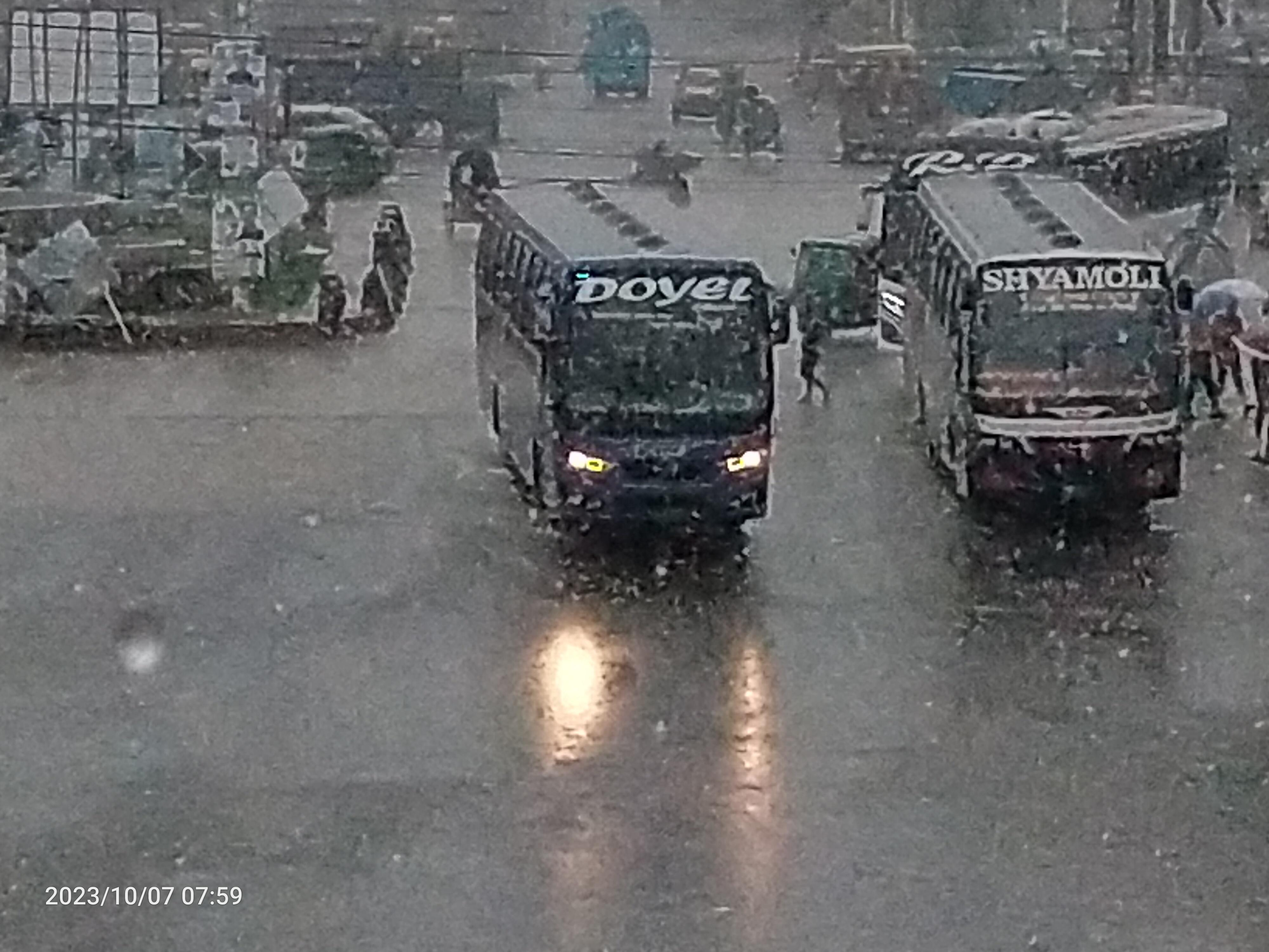Bus: (456, 154, 786, 565), (878, 155, 1208, 547)
Truck: (668, 45, 754, 133)
